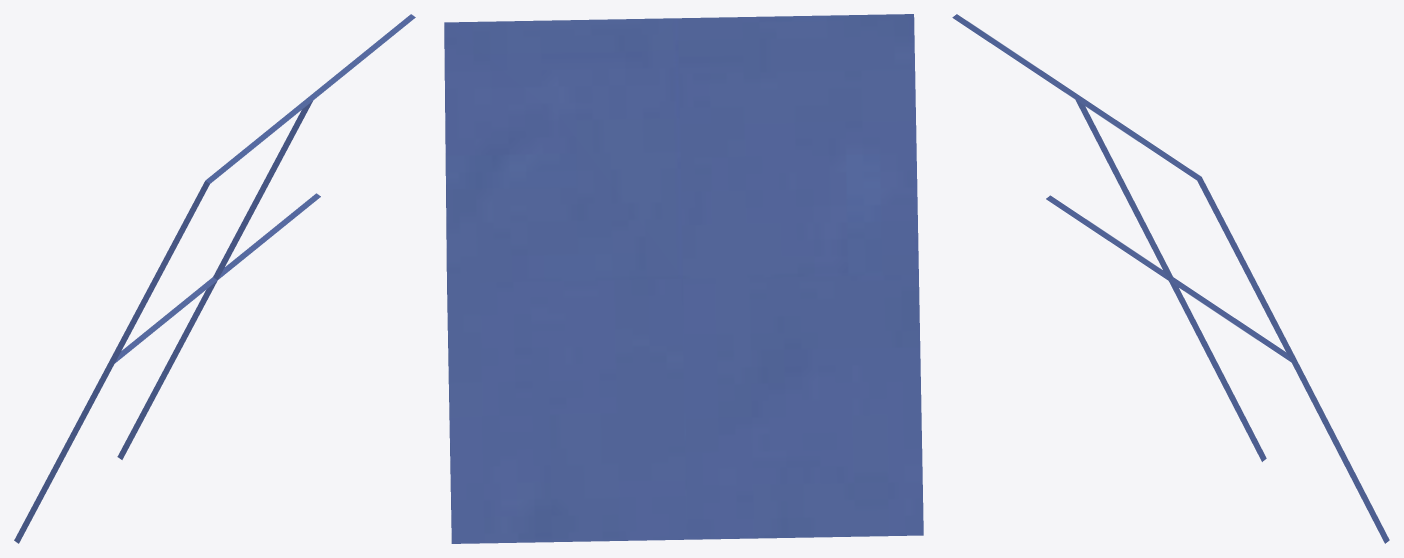
3 views of the same model, side by side, from view 1: azimuth 30°, elevation 25°; view 2: azimuth 150°, elevation 25°; view 3: azimuth 270°, elevation 25° (orthographic). The views are drawn at different scales.
Bounding box in the file's own units: 19626 × 17737 × 16935.
Materials: 1 (1 with a texture image).
